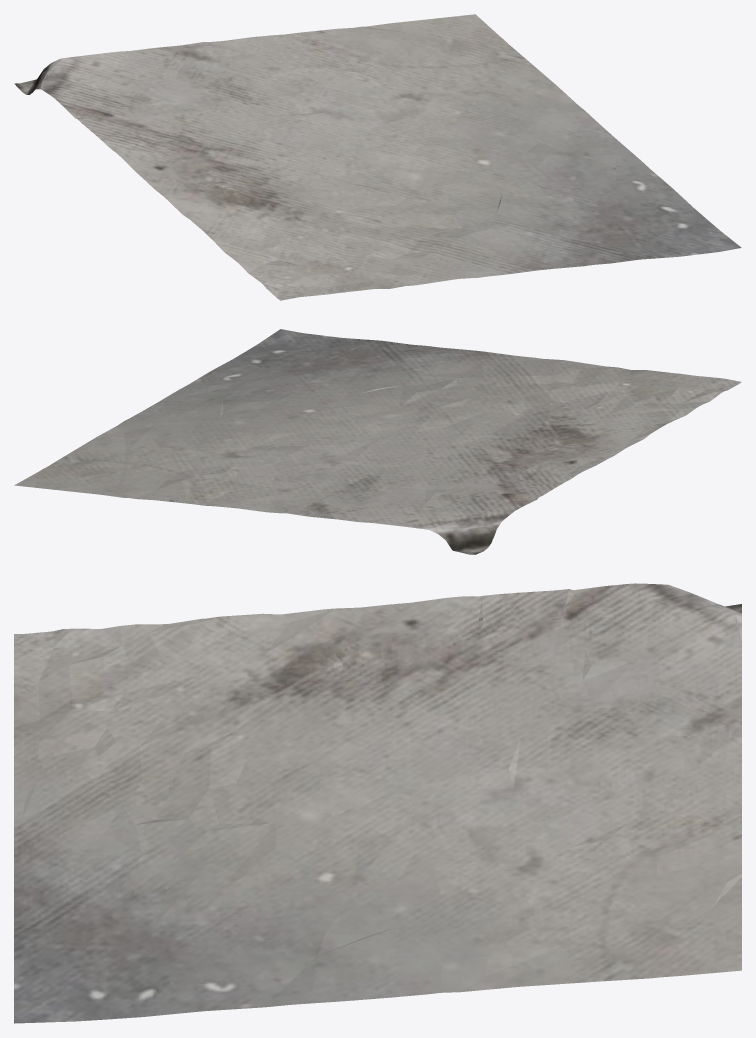
The picture shows the model from 3 angles, top to bottom: view 1: azimuth 30°, elevation 25°; view 2: azimuth 150°, elevation 25°; view 3: azimuth 270°, elevation 25°; orthographic projection. The views are drawn at different scales.
Size of the model in its own units: 0.8374 by 0.168 by 0.8374.
Materials: 2 (2 with a texture image).
